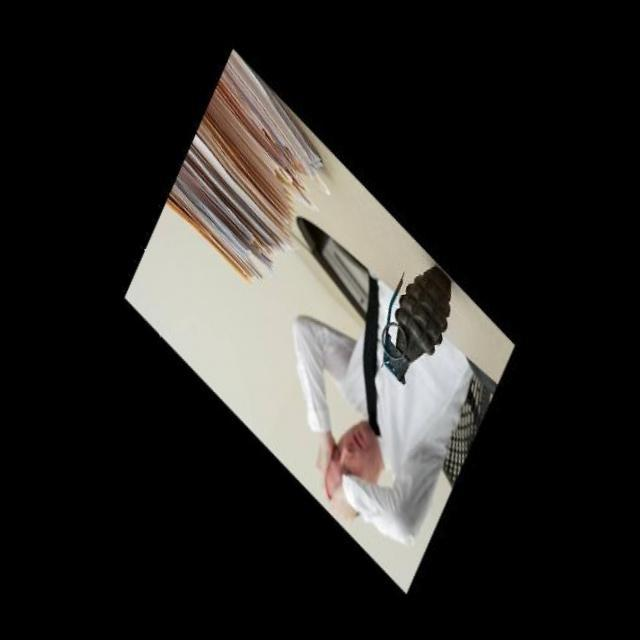grenade: (364, 256, 470, 389)
